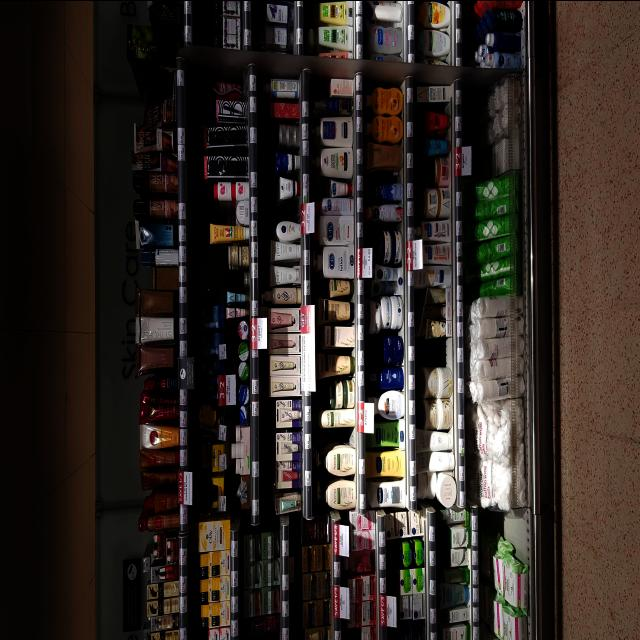empty_space: (419, 342, 444, 364)
